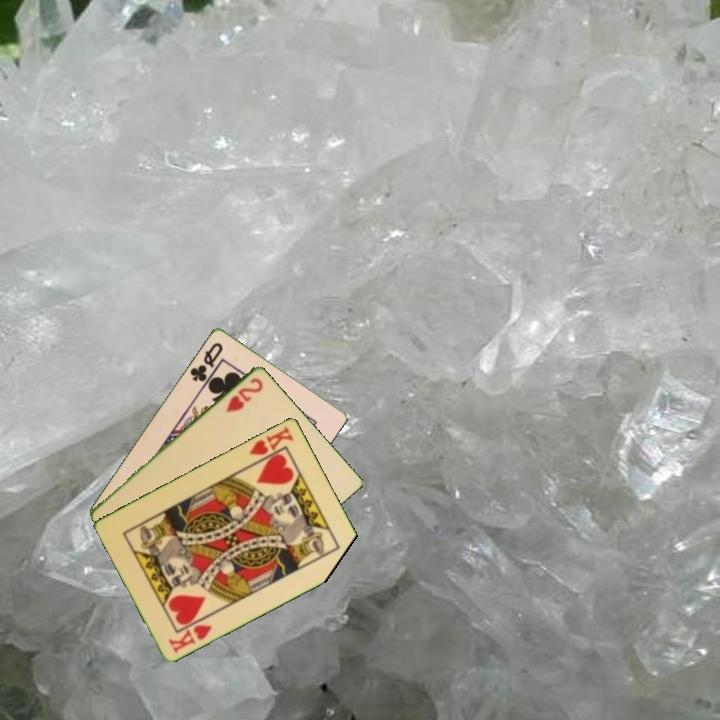2h: (222, 374, 266, 415)
Kh: (246, 422, 297, 466), (165, 620, 215, 656)
Qc: (186, 338, 226, 390)
